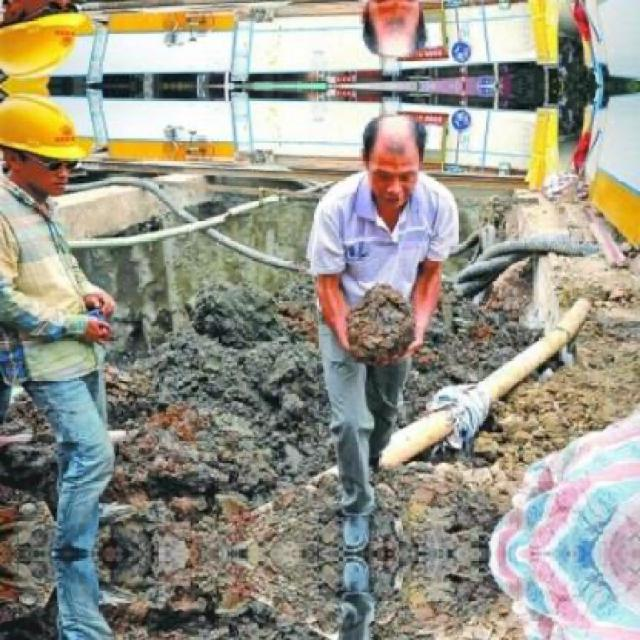con casco: (0, 97, 99, 202)
sin casco: (327, 93, 424, 219)
